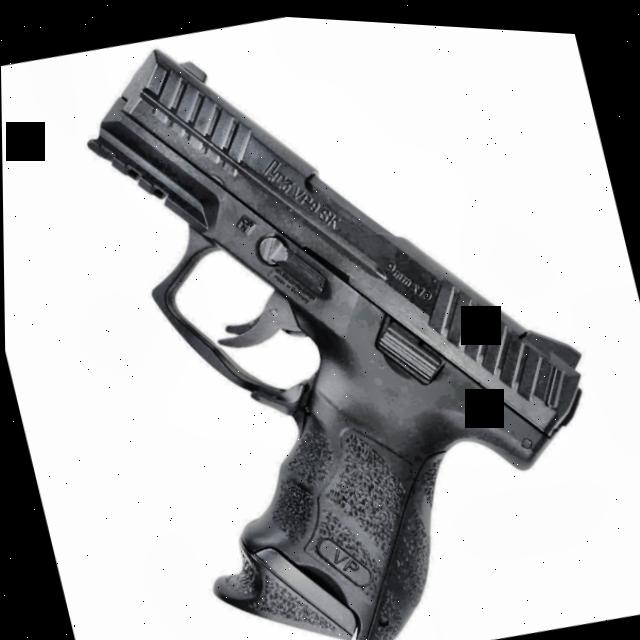HKVP9: (65, 3, 640, 640)
